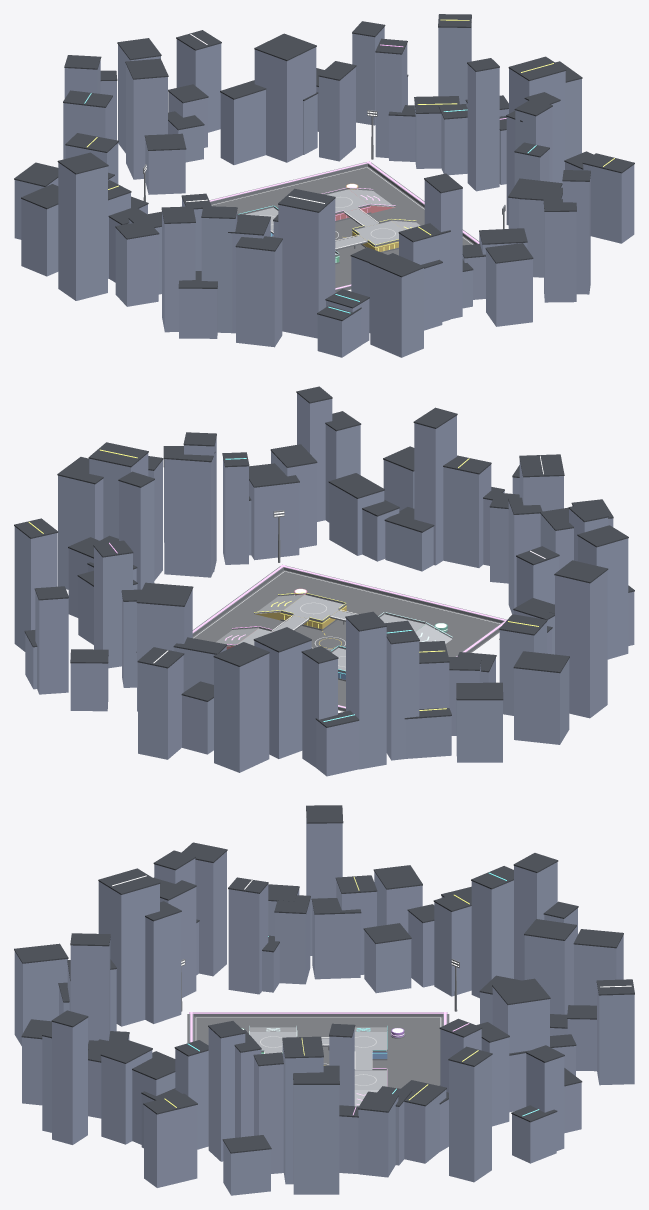
The model's file is arena.glb.
3 renders of one model, top to bottom at view 1: azimuth 30°, elevation 25°; view 2: azimuth 150°, elevation 25°; view 3: azimuth 270°, elevation 25°, orthographic. The views are drawn at different scales.
Visible parts, largest first — view 1: deco_gebouw_24, deco_gebouw_35, deco_gebouw_56, deco_gebouw_20, deco_gebouw_26, floor.001, deco_gebouw_69, deco_gebouw_49, deco_gebouw_6, deco_gebouw_15, deco_gebouw_33, deco_gebouw_54 (+51 smaller); view 2: floor.001, deco_gebouw_35, deco_gebouw_50, deco_gebouw_4, deco_gebouw_45, deco_gebouw_38, deco_gebouw_53, deco_gebouw_18, deco_gebouw_49, deco_gebouw_17, deco_gebouw_9, deco_gebouw_64 (+44 smaller); view 3: floor.001, deco_gebouw_24, deco_gebouw_0, deco_gebouw_64, deco_gebouw_44, deco_gebouw_6, deco_gebouw_11, deco_gebouw_31, deco_gebouw_25, deco_gebouw_53, deco_gebouw_30, deco_gebouw_17 (+47 smaller).
Boxes of the visible parts, left/top/right/bottom form: deco_gebouw_24: left=278, top=188, right=335, bottom=338; deco_gebouw_35: left=57, top=152, right=108, bottom=300; deco_gebouw_56: left=254, top=33, right=316, bottom=162; deco_gebouw_20: left=369, top=253, right=424, bottom=357; deco_gebouw_26: left=235, top=236, right=282, bottom=347; floor.001: left=211, top=166, right=473, bottom=292; deco_gebouw_69: left=467, top=58, right=499, bottom=191; deco_gebouw_49: left=125, top=58, right=168, bottom=179; deco_gebouw_6: left=582, top=153, right=634, bottom=243; deco_gebouw_15: left=485, top=243, right=533, bottom=326; deco_gebouw_33: left=115, top=221, right=159, bottom=306; deco_gebouw_54: left=220, top=80, right=266, bottom=164; floor.001: left=192, top=570, right=500, bottom=711; deco_gebouw_35: left=554, top=560, right=608, bottom=718; deco_gebouw_50: left=213, top=642, right=269, bottom=772; deco_gebouw_4: left=163, top=448, right=215, bottom=577; deco_gebouw_45: left=345, top=611, right=386, bottom=769; deco_gebouw_38: left=513, top=651, right=569, bottom=744; deco_gebouw_53: left=137, top=647, right=184, bottom=759; deco_gebouw_18: left=443, top=455, right=491, bottom=567; deco_gebouw_49: left=253, top=627, right=311, bottom=758; deco_gebouw_17: left=413, top=407, right=457, bottom=565; deco_gebouw_9: left=249, top=463, right=299, bottom=560; deco_gebouw_64: left=14, top=518, right=58, bottom=651; floor.001: left=187, top=1014, right=449, bottom=1088; deco_gebouw_24: left=98, top=868, right=160, bottom=1026; deco_gebouw_0: left=293, top=1065, right=339, bottom=1194; deco_gebouw_64: left=448, top=1046, right=492, bottom=1182; deco_gebouw_44: left=471, top=866, right=513, bottom=998; deco_gebouw_6: left=143, top=1093, right=197, bottom=1187; deco_gebouw_11: left=51, top=1010, right=88, bottom=1144; deco_gebouw_31: left=228, top=877, right=268, bottom=994; deco_gebouw_25: left=145, top=901, right=181, bottom=1023; deco_gebouw_53: left=596, top=979, right=634, bottom=1085; deco_gebouw_30: left=182, top=842, right=227, bottom=976; deco_gebouw_17: left=70, top=933, right=110, bottom=1043.
Bounding box in the file's own units: 286 × 70.51 × 289.
